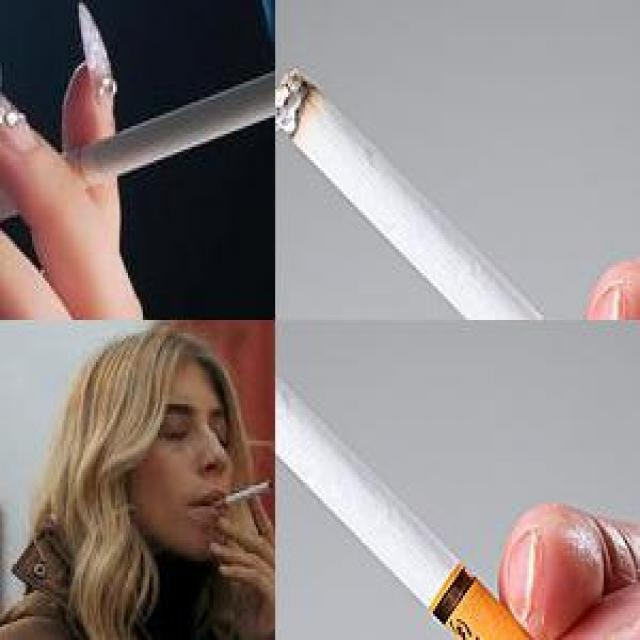cigarette: (275, 320, 623, 638), (275, 62, 638, 318), (0, 52, 273, 226), (213, 478, 276, 511)
